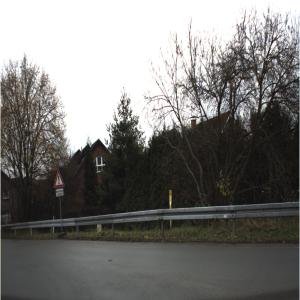DANGER: (55, 170, 66, 189)
